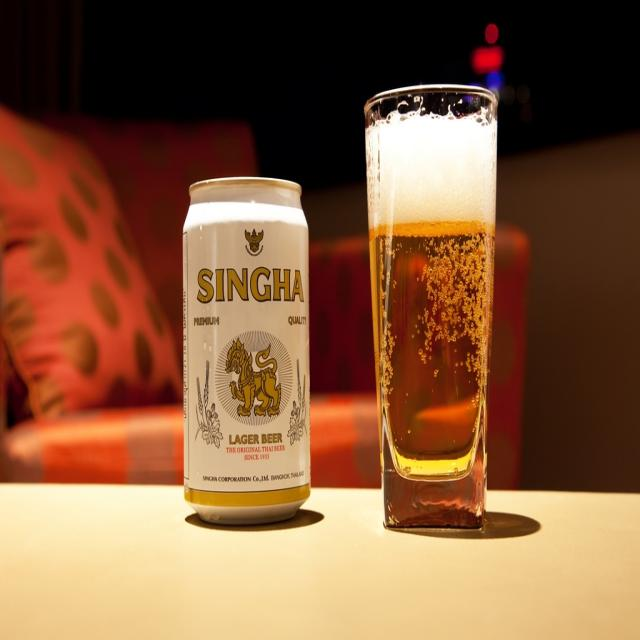singha: (224, 339, 284, 420)
